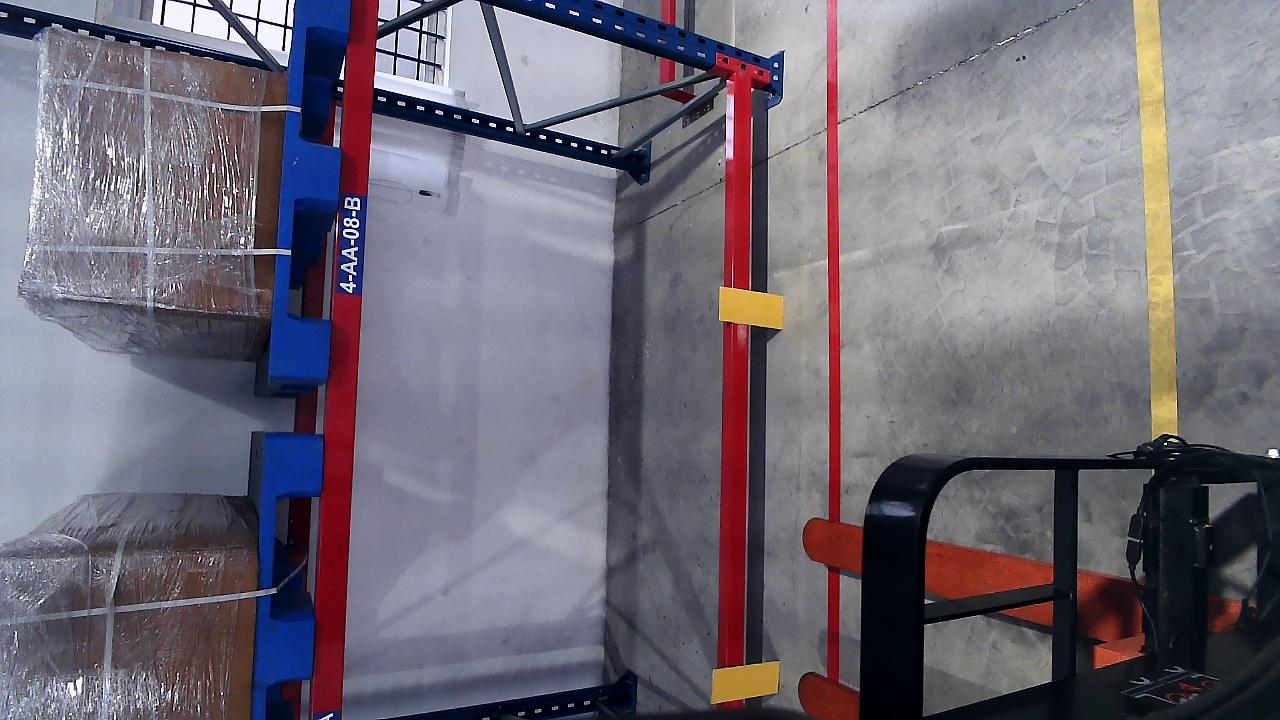h_rack: (719, 76, 757, 711), (344, 0, 373, 683)
orange_strip: (711, 660, 780, 702), (719, 287, 784, 329)
red_line: (822, 5, 844, 513)
small_pallet: (253, 439, 321, 718)
yellow_line: (1134, 0, 1181, 436)
